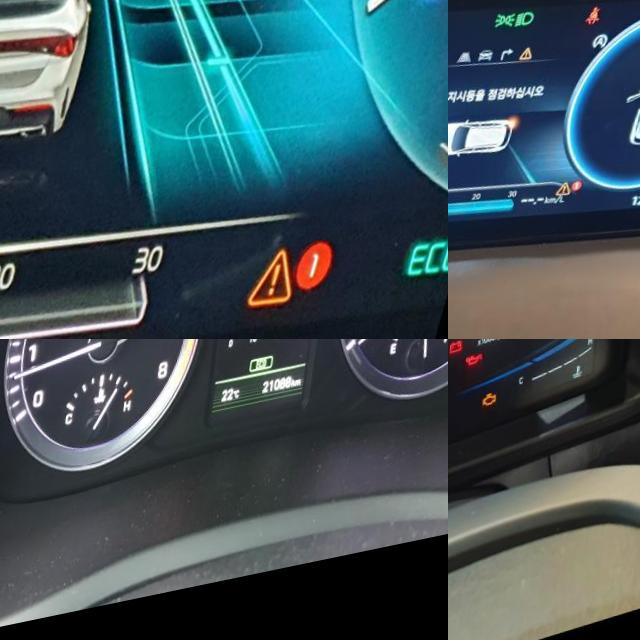Central Warning lamp: (255, 259, 314, 331), (522, 60, 540, 78)
LaneCenteringOff: (460, 62, 478, 79)
Low beam: (517, 23, 540, 46)
SideLamp: (496, 23, 521, 46)
